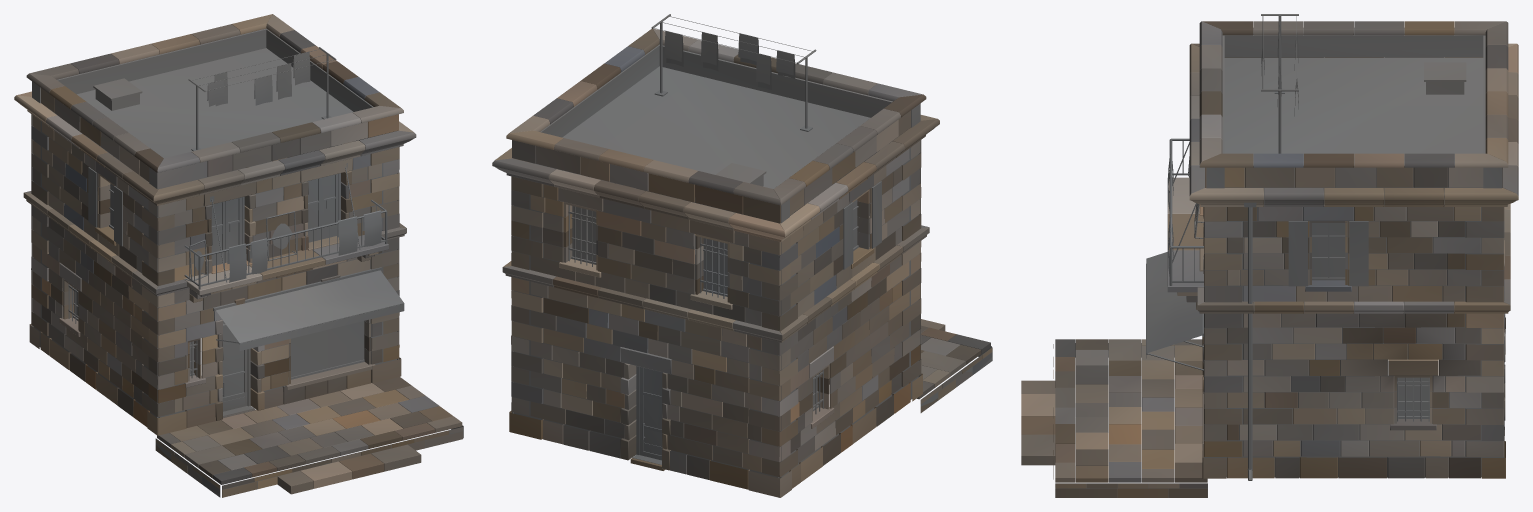
Rendered from ThreadHide_LOD1.glb.
The picture shows the model from 3 angles, left to right: view 1: azimuth 30°, elevation 25°; view 2: azimuth 150°, elevation 25°; view 3: azimuth 270°, elevation 25°; orthographic projection. The views are drawn at different scales.
Visible parts, largest first — view 1: ThreadHide_Masonry_LOD1, ThreadHide_Trim_LOD1, ThreadHide_Porch_LOD1, ThreadHide_Roof_LOD1, ThreadHide_Canvas_LOD1, ThreadHide_Metal_LOD1, ThreadHide_Glass_LOD1, ThreadHide_Display_LOD1; view 2: ThreadHide_Masonry_LOD1, ThreadHide_Trim_LOD1, ThreadHide_Roof_LOD1, ThreadHide_Metal_LOD1, ThreadHide_Porch_LOD1, ThreadHide_Canvas_LOD1, ThreadHide_Glass_LOD1; view 3: ThreadHide_Masonry_LOD1, ThreadHide_Trim_LOD1, ThreadHide_Porch_LOD1, ThreadHide_Roof_LOD1, ThreadHide_Metal_LOD1, ThreadHide_Canvas_LOD1, ThreadHide_Glass_LOD1.
Part boxes in pixels (x1,y1,x2,y2): ThreadHide_Masonry_LOD1: (29, 28, 401, 435); ThreadHide_Trim_LOD1: (14, 14, 416, 420); ThreadHide_Porch_LOD1: (155, 377, 463, 497); ThreadHide_Roof_LOD1: (77, 48, 353, 158); ThreadHide_Canvas_LOD1: (193, 51, 404, 350); ThreadHide_Metal_LOD1: (68, 47, 402, 416); ThreadHide_Glass_LOD1: (74, 137, 337, 396); ThreadHide_Display_LOD1: (291, 321, 364, 377); ThreadHide_Masonry_LOD1: (509, 44, 922, 497); ThreadHide_Trim_LOD1: (492, 28, 939, 470); ThreadHide_Roof_LOD1: (562, 66, 870, 188); ThreadHide_Metal_LOD1: (568, 14, 881, 464); ThreadHide_Porch_LOD1: (630, 319, 992, 470); ThreadHide_Canvas_LOD1: (664, 30, 795, 90); ThreadHide_Glass_LOD1: (572, 173, 857, 405); ThreadHide_Masonry_LOD1: (1202, 28, 1505, 478); ThreadHide_Trim_LOD1: (1167, 21, 1518, 447); ThreadHide_Porch_LOD1: (1021, 339, 1207, 497); ThreadHide_Roof_LOD1: (1224, 58, 1483, 157); ThreadHide_Metal_LOD1: (1146, 14, 1432, 480); ThreadHide_Canvas_LOD1: (1146, 24, 1298, 358); ThreadHide_Glass_LOD1: (1312, 223, 1429, 416).
Size of the model in its own units: 8.46 by 10.02 by 11.73.
